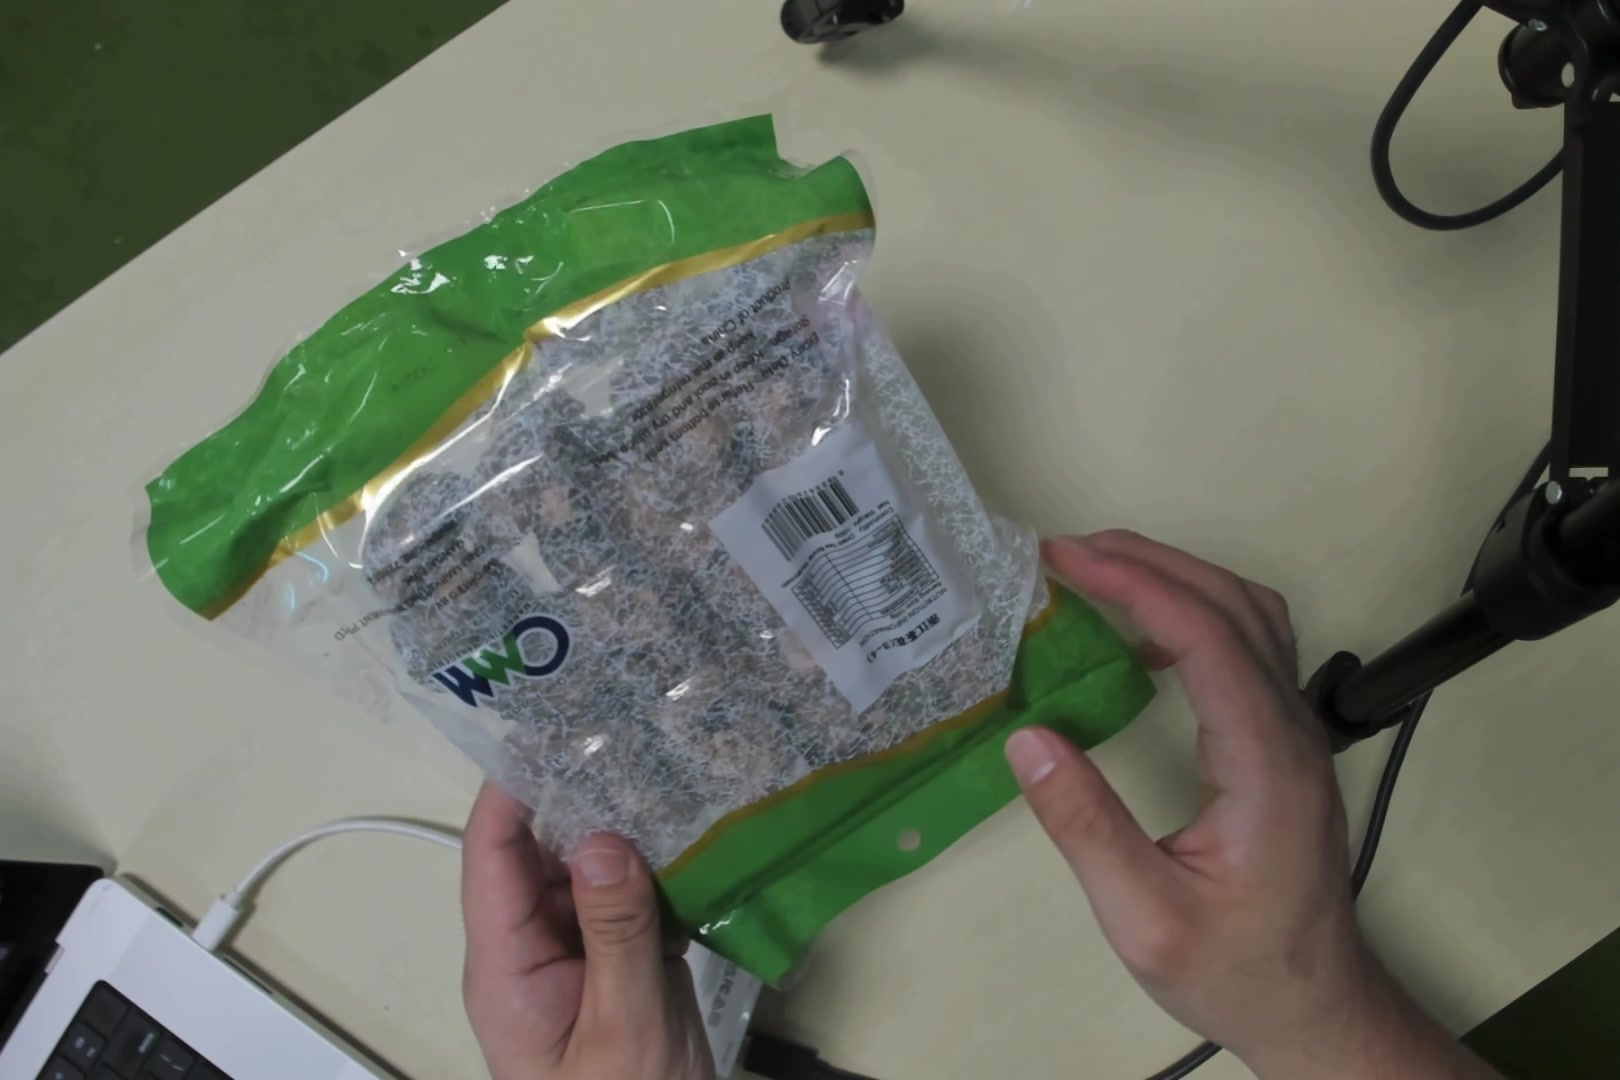OtherDriedFood_100-199g_NonHalal_NonHealthy: (381, 245, 1068, 897)
